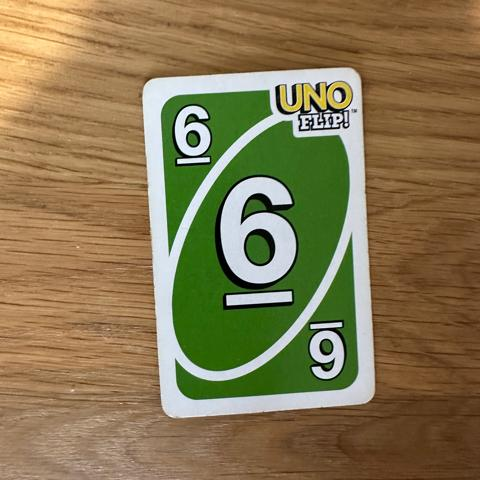9_green: (213, 172, 306, 308), (302, 319, 353, 381), (167, 104, 219, 164)
